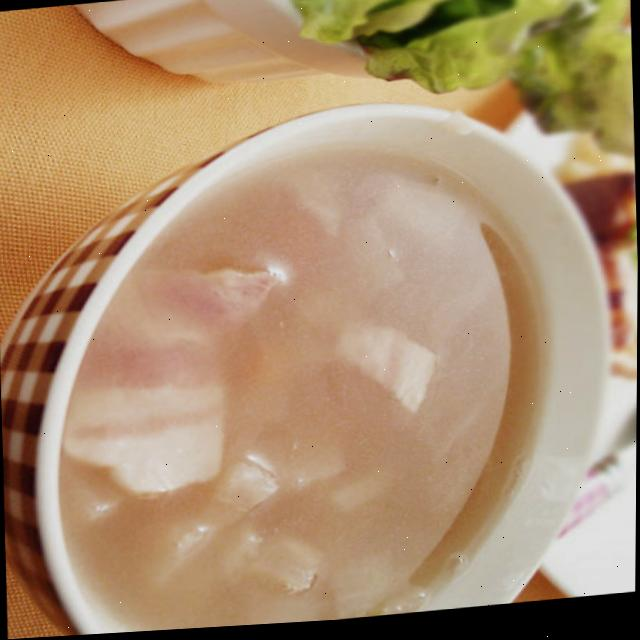汤锅炖物: (0, 78, 631, 640)
